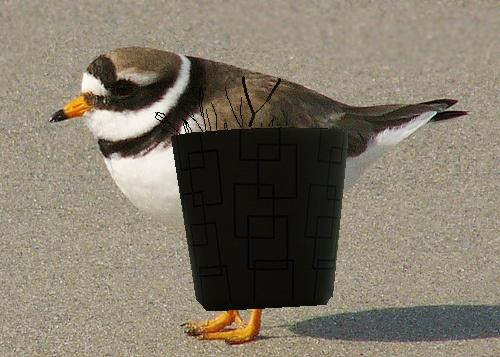tampered: (156, 77, 348, 311)
